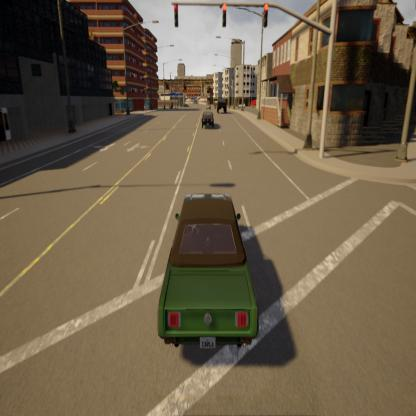Cars: (157, 192, 260, 357), (216, 95, 228, 116), (202, 109, 214, 130)
